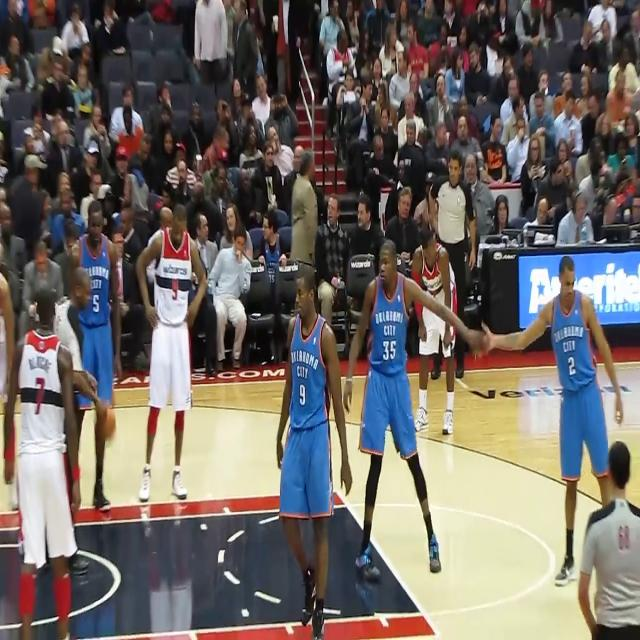ball: (95, 400, 117, 442)
